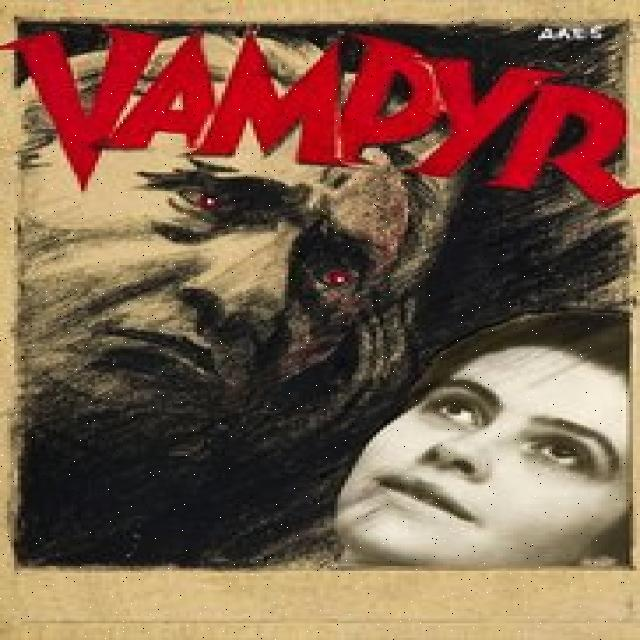movie-judul: (14, 19, 640, 210)
picture: (10, 6, 637, 577)
